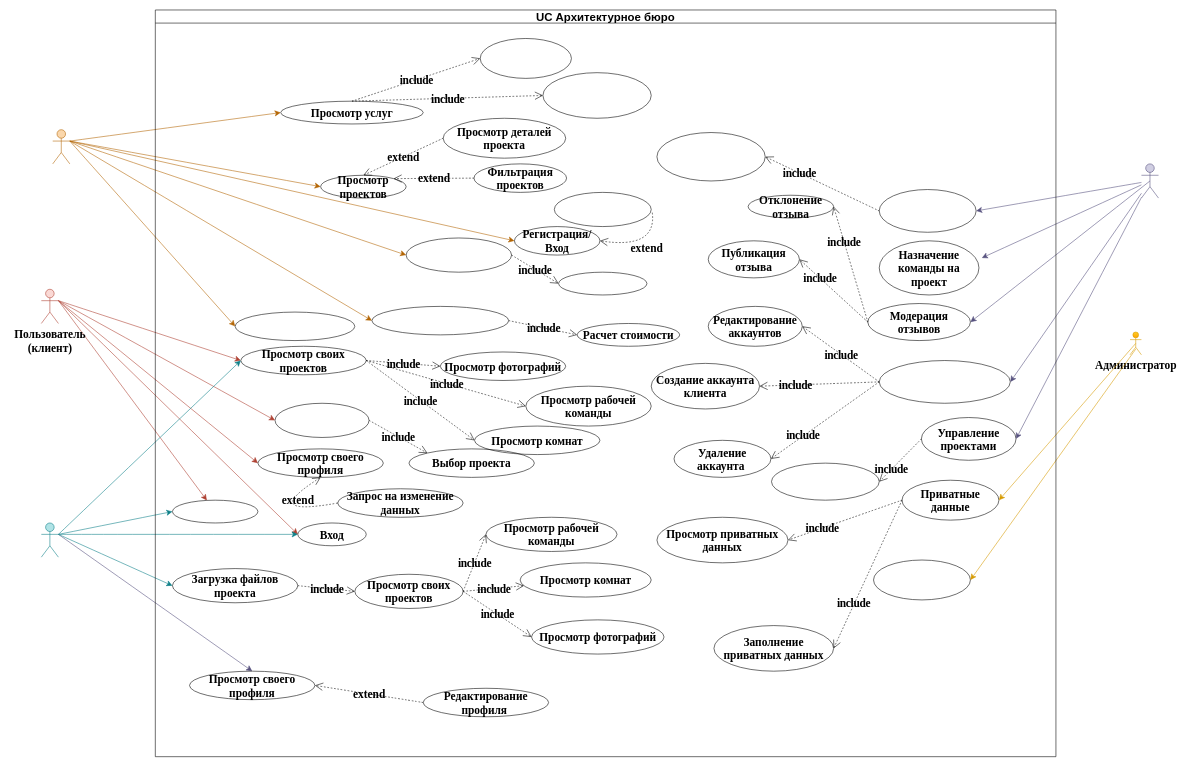
Some shapes in this 1186 by 767 pixel diagram are drawn without their labels. The shapes that lost their labels are listed below. From the top down, each one's centre as x and y in pixels, then its label:
At [525,58]: "Услуги дизайна".
At [596,95]: "Услуги архитектуры".
At [61,146]: "Неавторизованный пользователь".
At [710,156]: "Изменение статуса заявки".
At [1150,180]: "Менеджер".
At [602,209]: "Восстановление пароля".
At [927,210]: "Просмотр заявок".
At [459,254]: "Контактная форма".
At [602,283]: "Отправка уведомления".
At [295,326]: "Просмотр команды".
At [440,320]: "Калькулятор стоимости".
At [944,381]: "Управление аккаунтами".
At [321,420]: "Создание отзыва".
At [825,481]: "Обновление базы данных".
At [215,511]: "Выход из системы".
At [49,539]: "Пользователь (сотрудник)".
At [921,579]: "Управление ролями".
